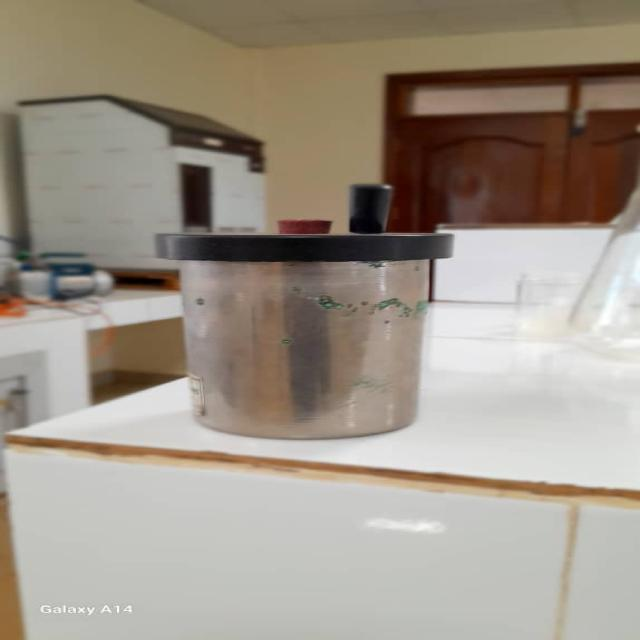Calorimeter: (156, 178, 448, 441)
